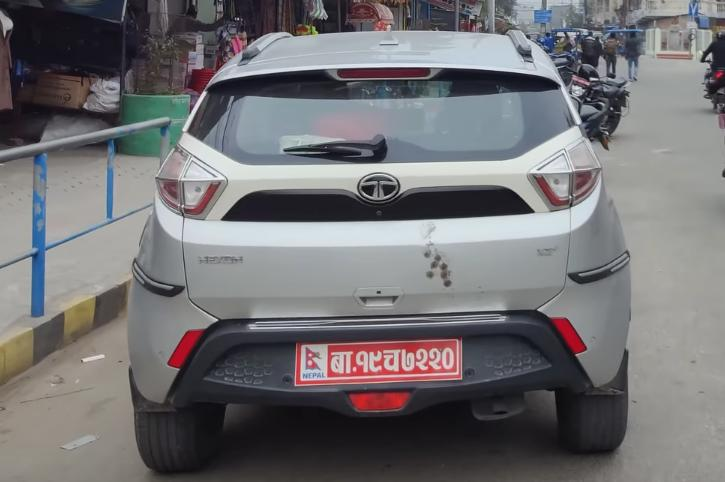bike: (568, 67, 633, 134)
car: (131, 19, 633, 464)
